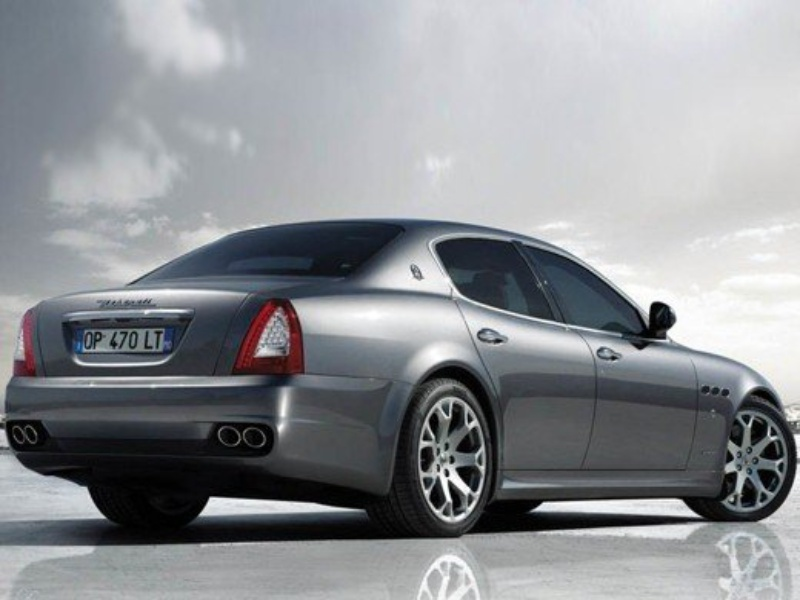licence_plate: (64, 310, 185, 364)
